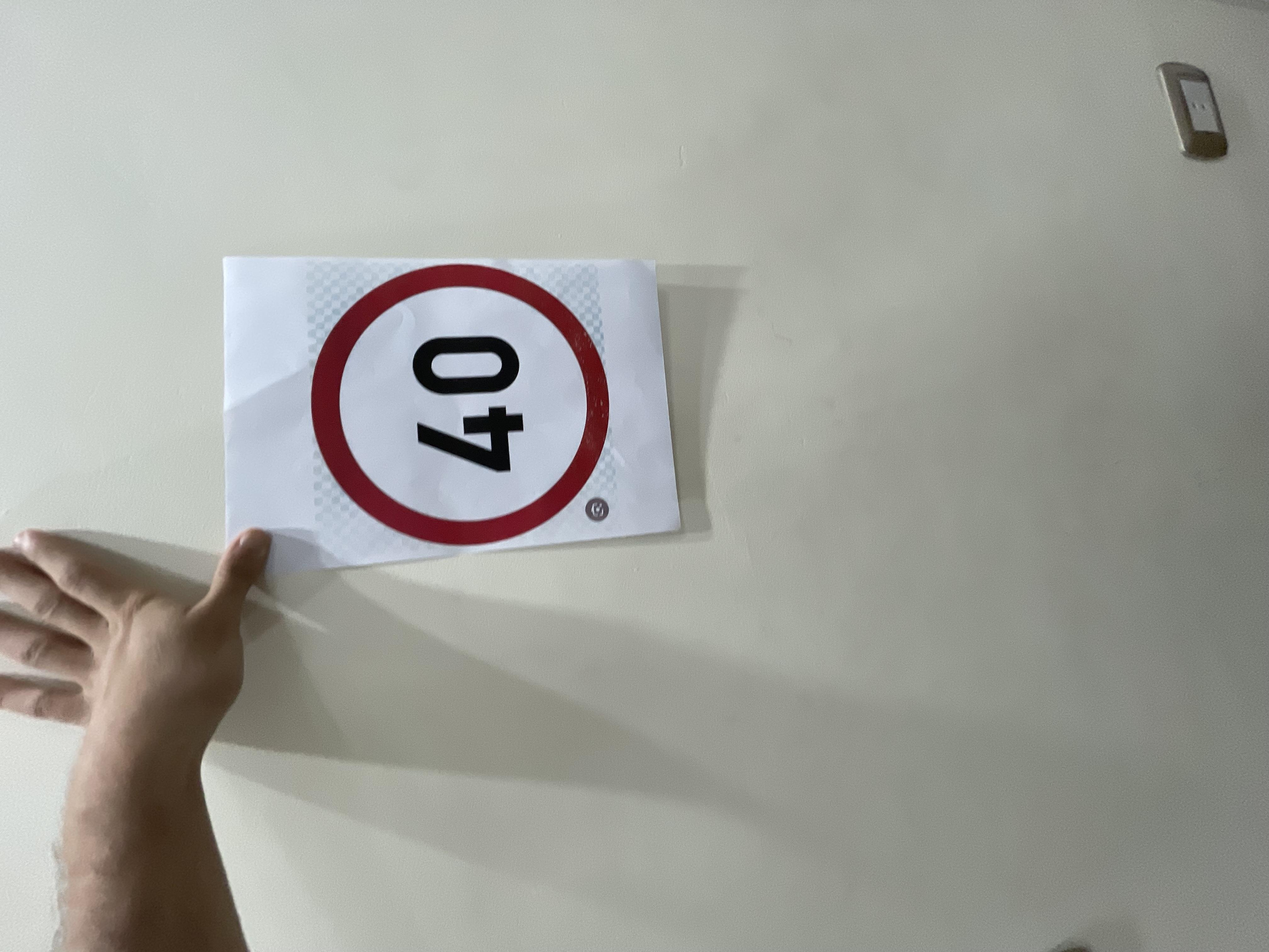40-Speed: (525, 228, 924, 456)
